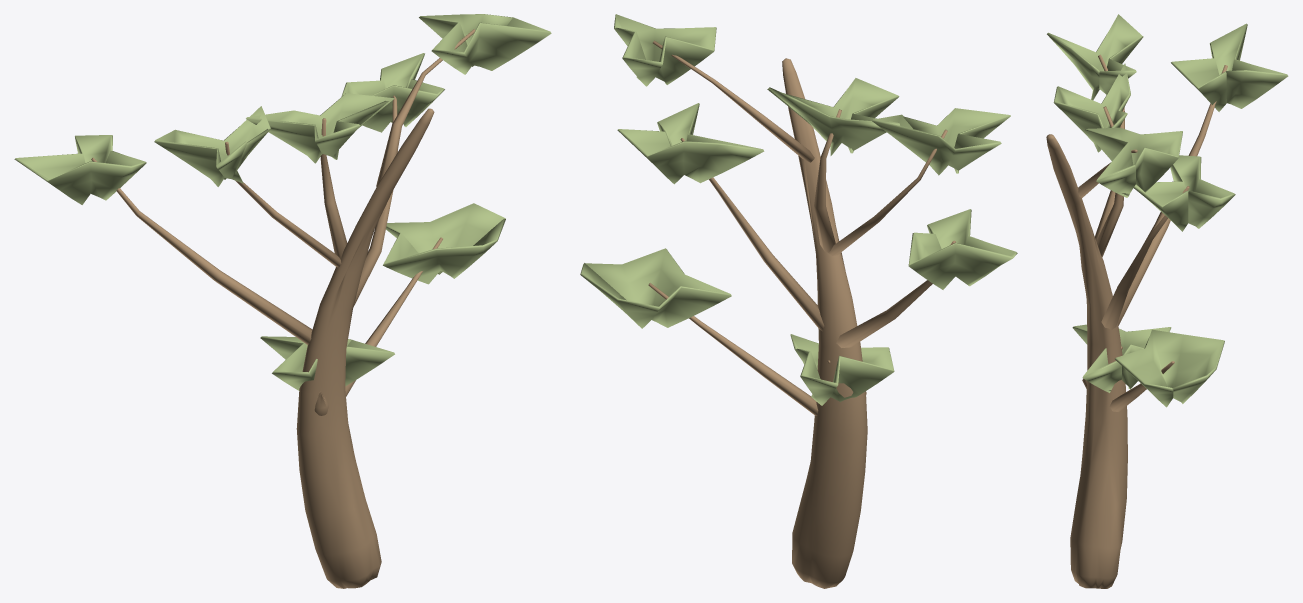
File: tree_b.glb
3 renders of one model, left to right at view 1: azimuth 30°, elevation 25°; view 2: azimuth 150°, elevation 25°; view 3: azimuth 270°, elevation 25°, orthographic. The views are drawn at different scales.
Visible parts, largest first — view 1: Trunk, Leaf4, Leaf3, Leaf5, Leaf2, Leaf6, Leaf1, Leaf0, Branch5, Branch2, Branch3, Branch6 (+2 smaller); view 2: Trunk, Leaf4, Leaf1, Leaf5, Leaf6, Leaf3, Leaf2, Leaf0, Branch1, Branch4, Branch5, Branch3 (+2 smaller); view 3: Trunk, Leaf4, Leaf5, Leaf3, Leaf1, Leaf6, Leaf2, Leaf0, Branch5, Branch1, Branch2, Branch4 (+2 smaller).
Part boxes in pixels (box(x1,y1,x2,y2)): Trunk: box(296, 108, 434, 588); Leaf4: box(383, 203, 505, 284); Leaf3: box(419, 14, 551, 74); Leaf5: box(14, 135, 146, 204); Leaf2: box(246, 93, 394, 163); Leaf6: box(154, 106, 270, 186); Leaf1: box(341, 53, 444, 132); Leaf0: box(260, 336, 394, 390); Branch5: box(91, 157, 312, 344); Branch2: box(320, 118, 347, 259); Branch3: box(376, 29, 475, 186); Branch6: box(225, 141, 341, 267); Trunk: box(782, 58, 867, 588); Leaf4: box(580, 248, 731, 328); Leaf1: box(617, 103, 764, 184); Leaf5: box(908, 209, 1017, 289); Leaf6: box(872, 108, 1010, 175); Leaf3: box(614, 14, 716, 86); Leaf2: box(767, 78, 899, 155); Leaf0: box(790, 334, 894, 405); Branch1: box(680, 138, 824, 331); Branch4: box(648, 283, 818, 415); Branch5: box(836, 240, 955, 347); Branch3: box(653, 40, 814, 162); Trunk: box(1046, 134, 1127, 588); Leaf4: box(1115, 329, 1224, 407); Leaf5: box(1171, 23, 1288, 111); Leaf3: box(1084, 127, 1182, 197); Leaf1: box(1133, 155, 1235, 231); Leaf6: box(1047, 14, 1143, 100); Leaf2: box(1053, 63, 1130, 152); Leaf0: box(1072, 324, 1171, 392); Branch5: box(1117, 65, 1227, 325); Branch1: box(1101, 186, 1189, 329); Branch2: box(1096, 106, 1123, 257); Branch4: box(1109, 361, 1174, 411).
Size of the model in its own units: 2.8 by 2.98 by 1.27.
